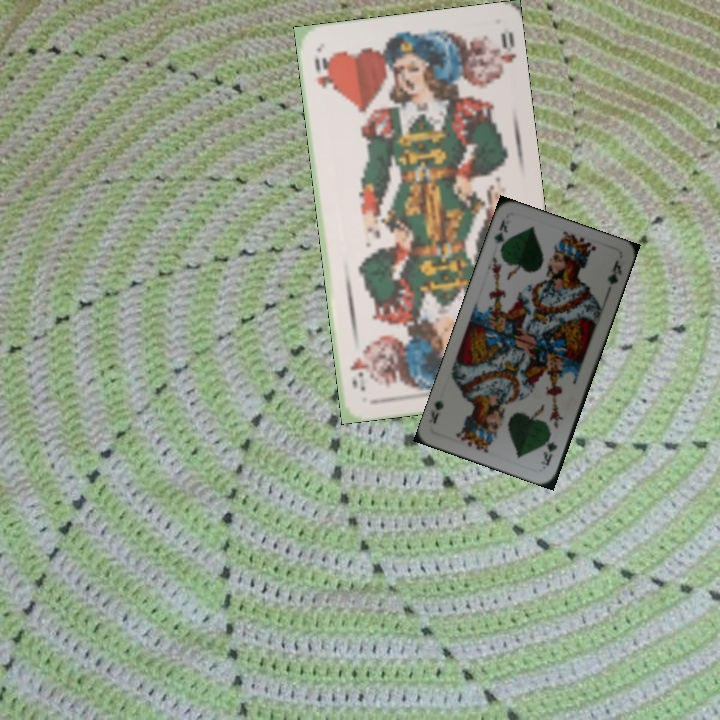GK: (490, 216, 511, 254), (540, 437, 560, 469)
HO: (310, 53, 335, 95)
